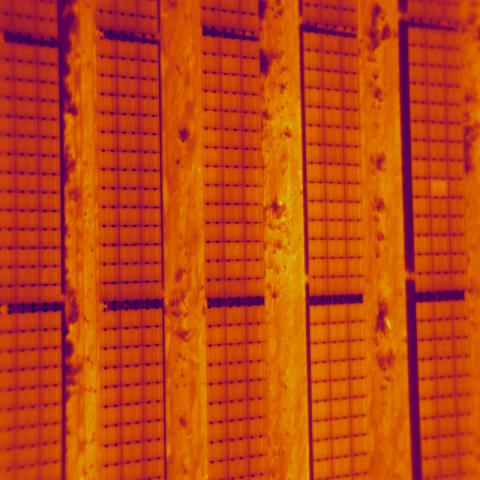fault: (430, 178, 448, 197)
